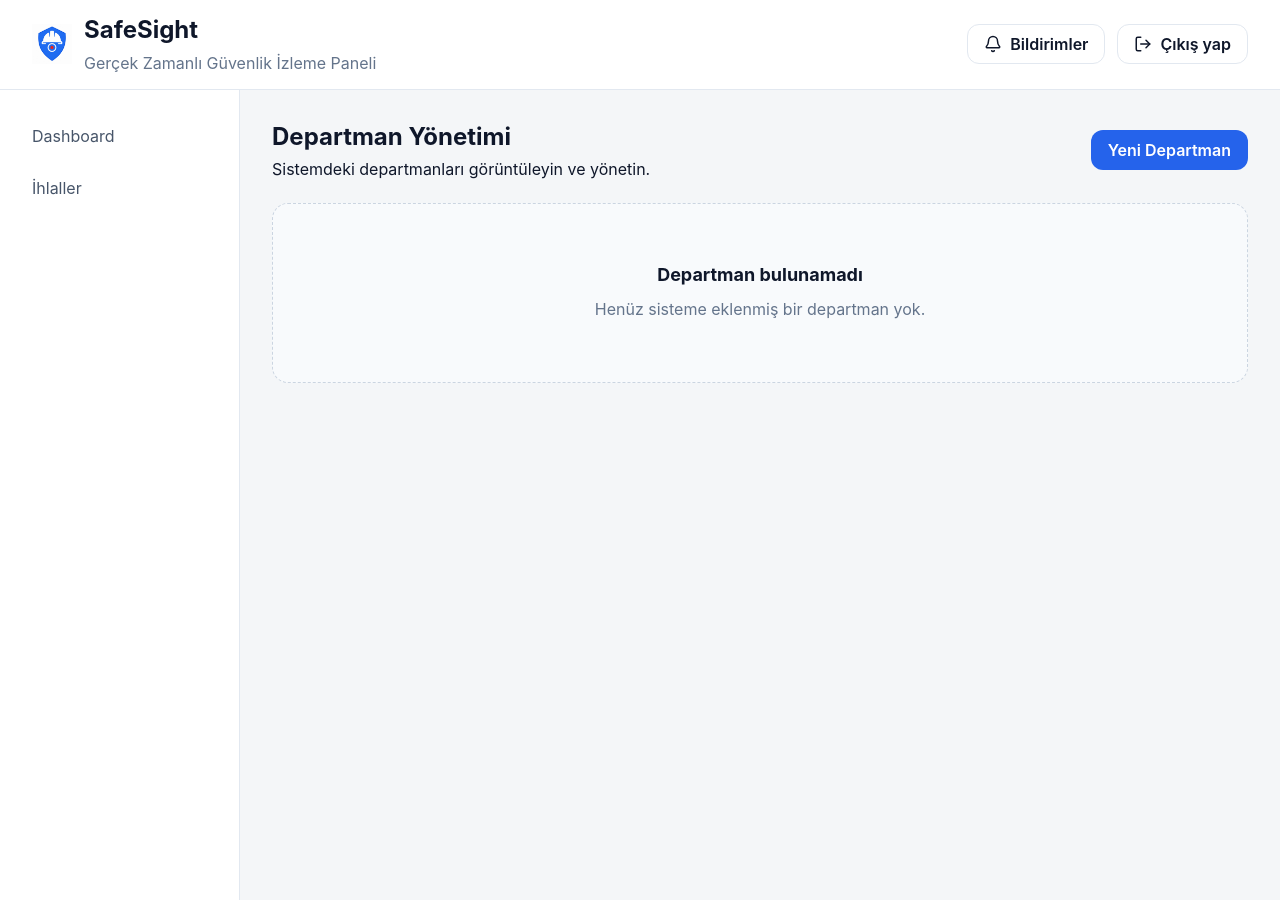
Test: DepartmentManagementPage › shows backend field validation errors in create form
This screenshot has width=1280, height=900.
Click the button "Yeni Departman": coordinates (1169, 150) x1=1091 y1=130 x2=1248 y2=170
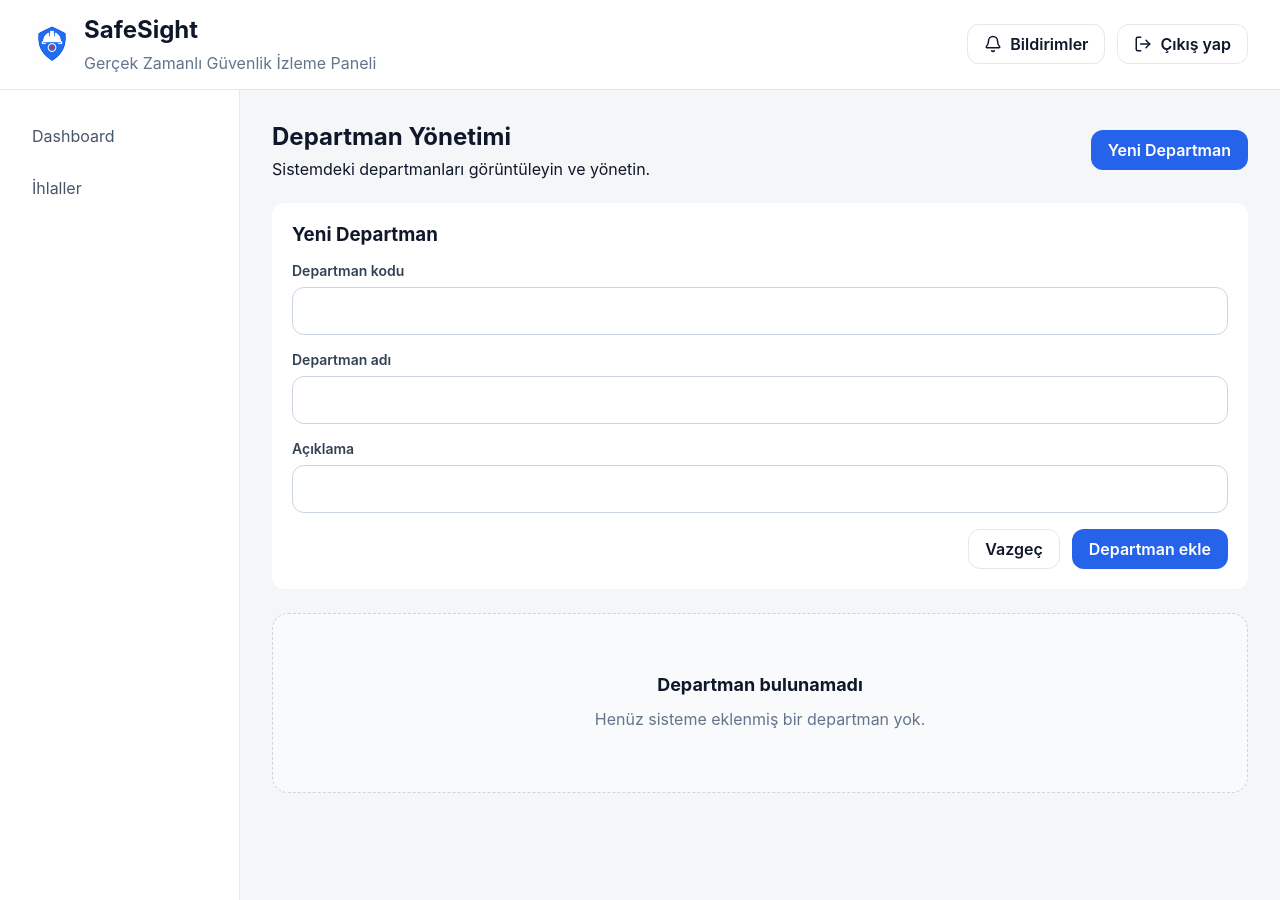
In the field labelled "Departman kodu": coordinates (760, 311) x1=292 y1=287 x2=1228 y2=335, type "URETIM"
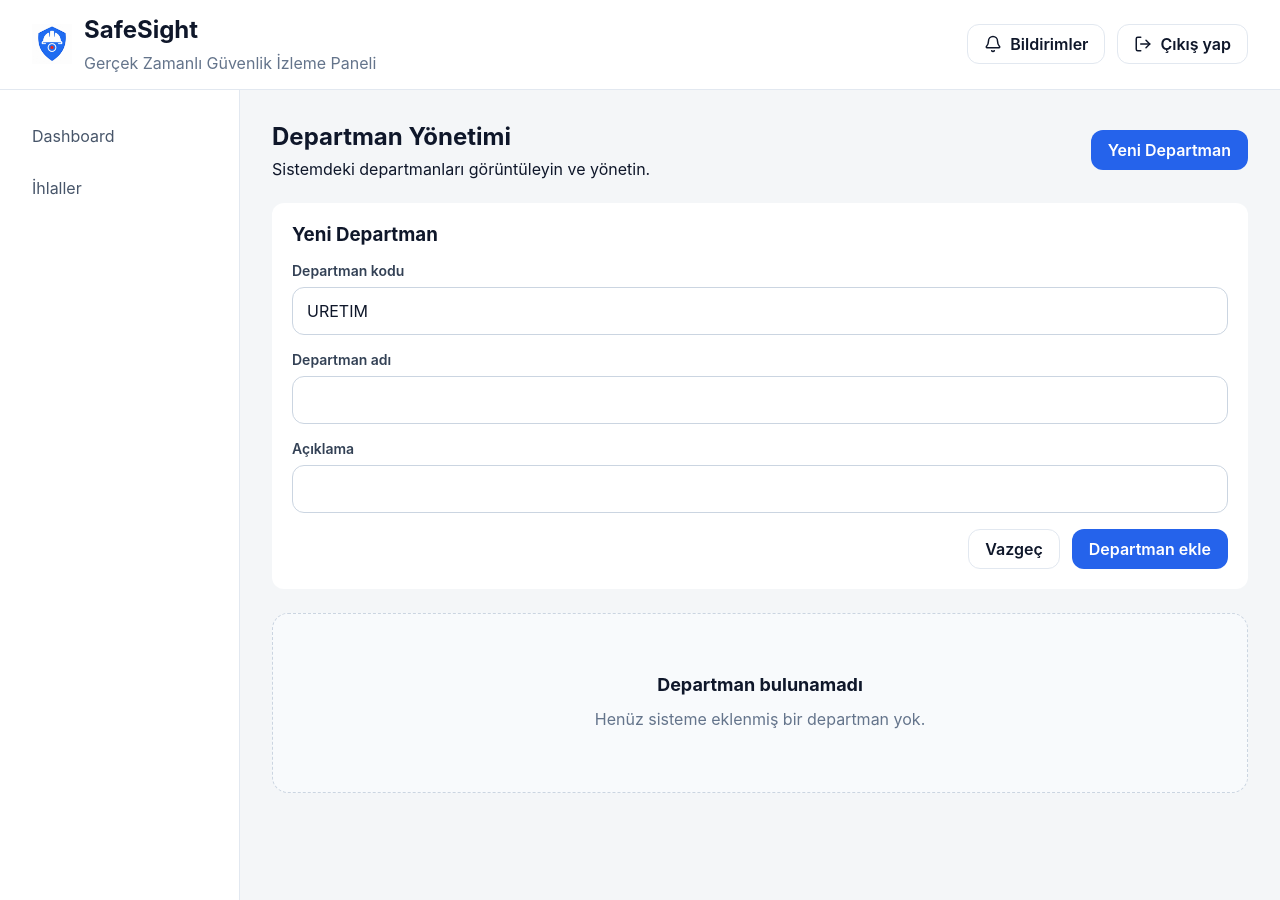
In the field labelled "Departman adı": coordinates (760, 400) x1=292 y1=376 x2=1228 y2=424, type "Üretim"
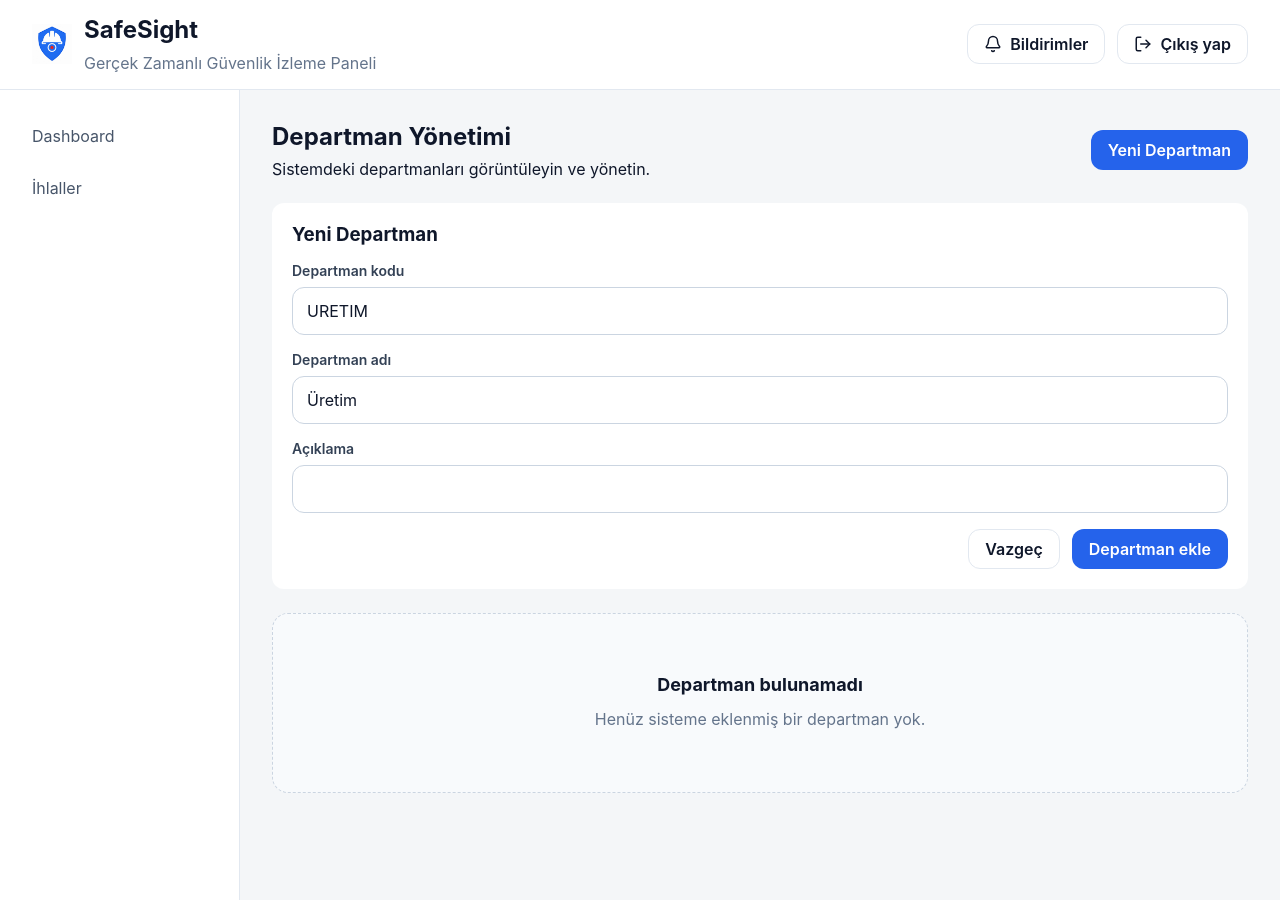
Click the button "Departman ekle": coordinates (1150, 549) x1=1072 y1=529 x2=1228 y2=569
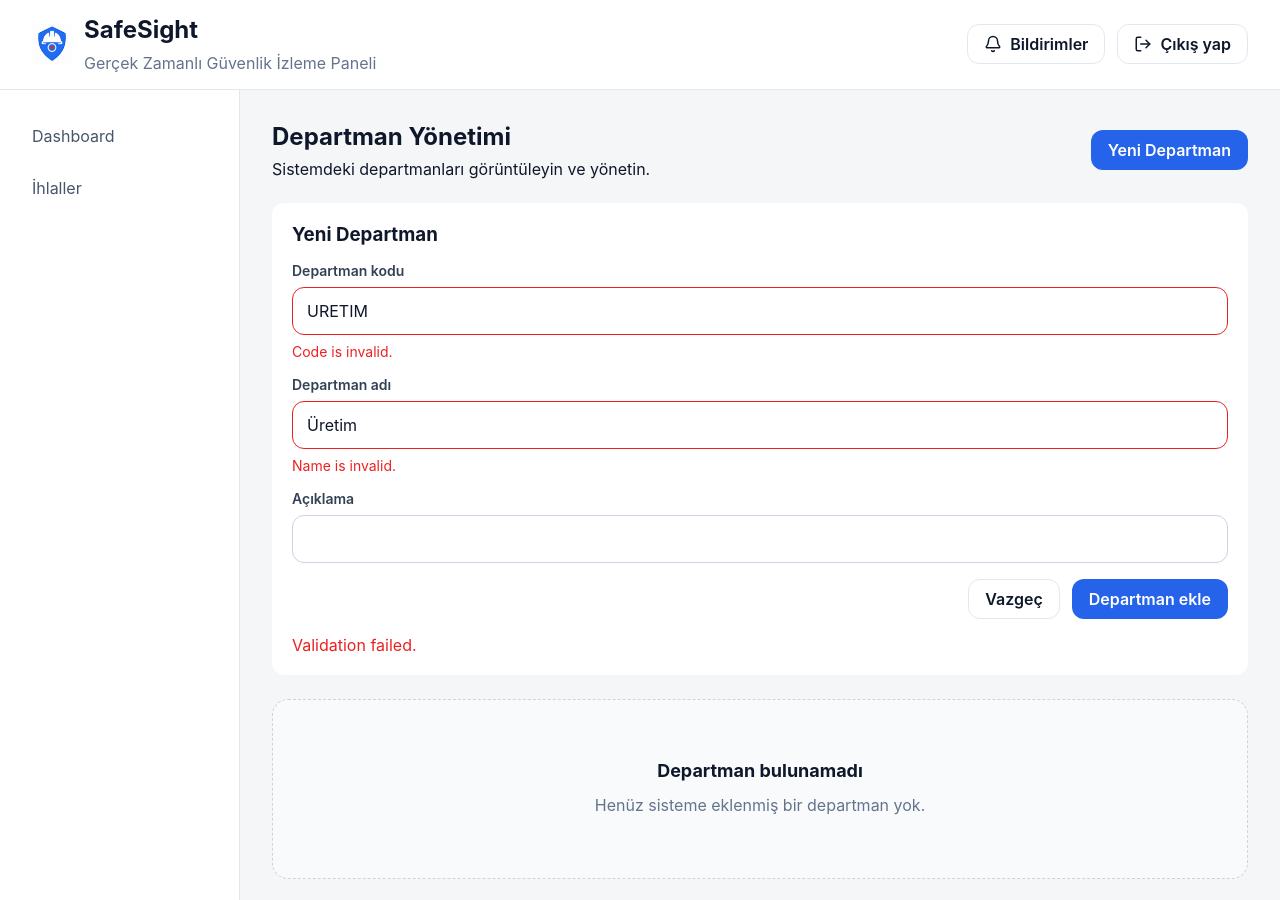
Check: the text "Code is invalid." is shown, box x1=292 y1=343 x2=392 y2=360
Check: the text "Name is invalid." is shown, box x1=292 y1=457 x2=396 y2=474
